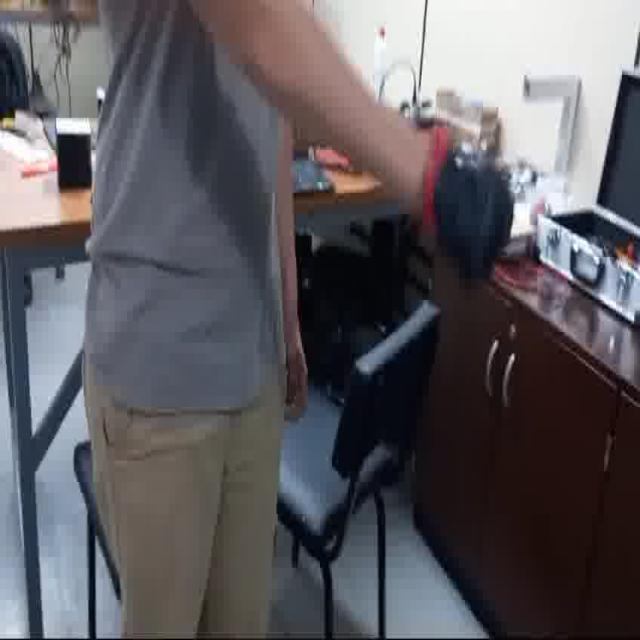Gloves: (420, 122, 518, 289)
